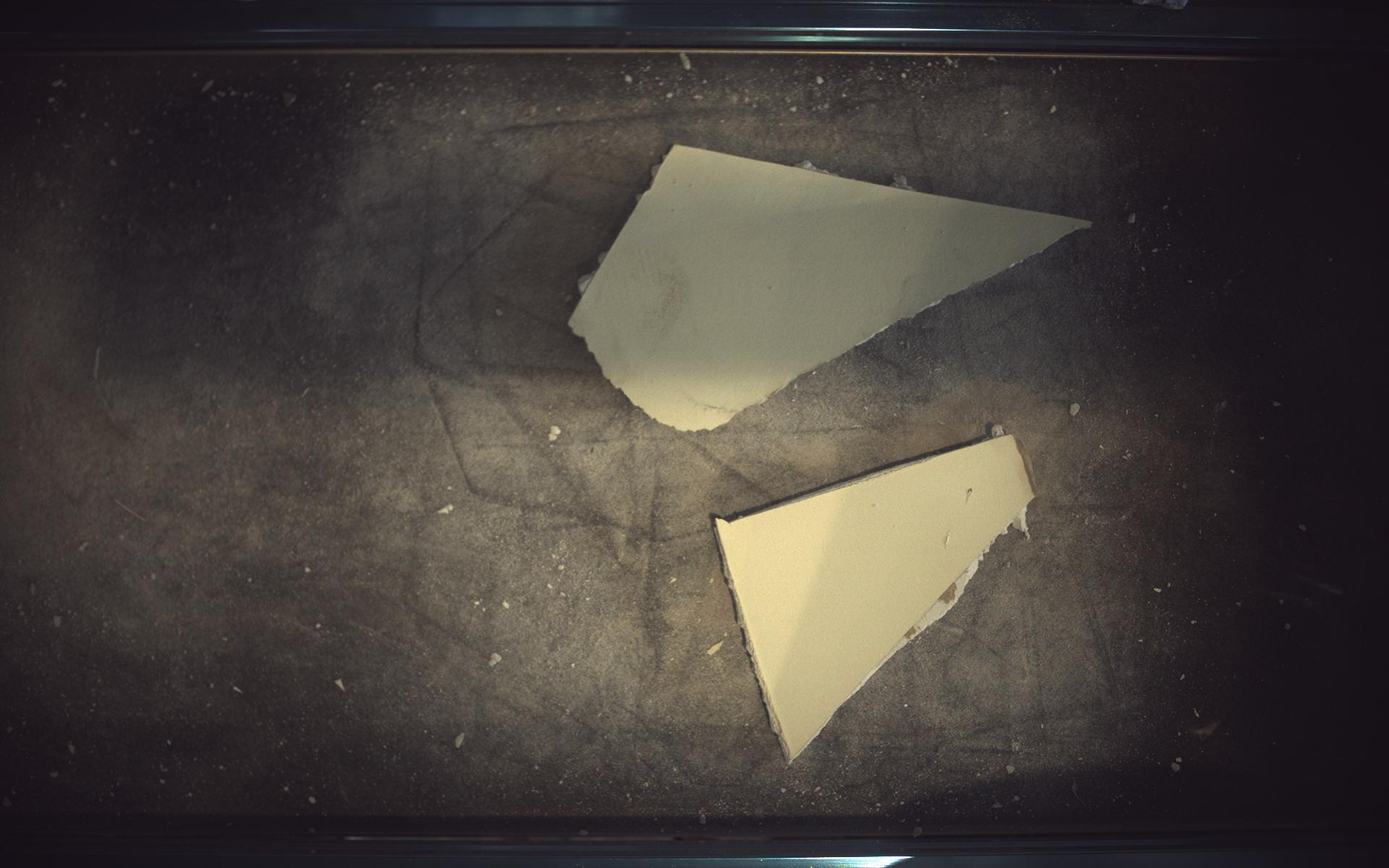gypsum_board: (569, 144, 1092, 430), (715, 424, 1038, 762)
